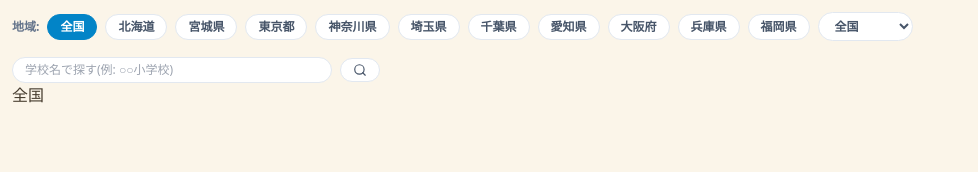
報告一覧の地域フィルタ(フック+UI) › 市町村の候補が時間内に返らなければ理由と再読み込みを出し、再読み込みで回復する
Select "東京都" in the dropdown named "都道府県を選ぶ" at [865, 26], box left=818, top=12, right=913, bottom=41
Wait 12000 ms
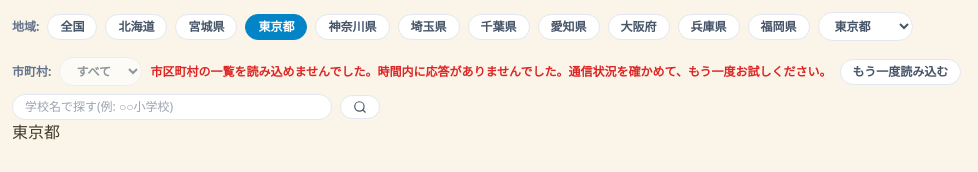
expect the dropdown named "市町村を選ぶ" is disabled: met, box left=59, top=57, right=142, bottom=86
expect the message shows "市区町村の一覧を読み込めませんでした。時間内に応答がありませんでした。": met, box left=150, top=64, right=832, bottom=80
Click the button "もう一度読み込む".
click(900, 72)  # box left=840, top=58, right=961, bottom=84
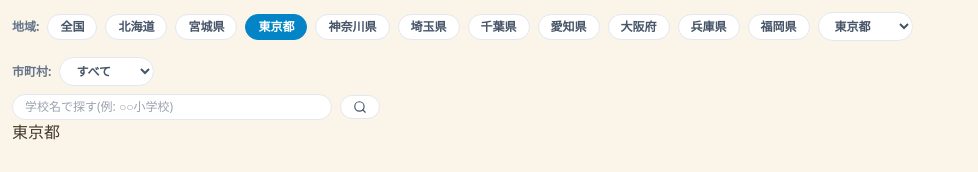
expect the dropdown named "市町村を選ぶ" is enabled: met, box left=59, top=57, right=154, bottom=86
expect the message "市区町村の一覧を読み込めませんでした。時間内に応答がありませんでした。通信状況を確かめて、もう一度お試しください。" is gone: met
